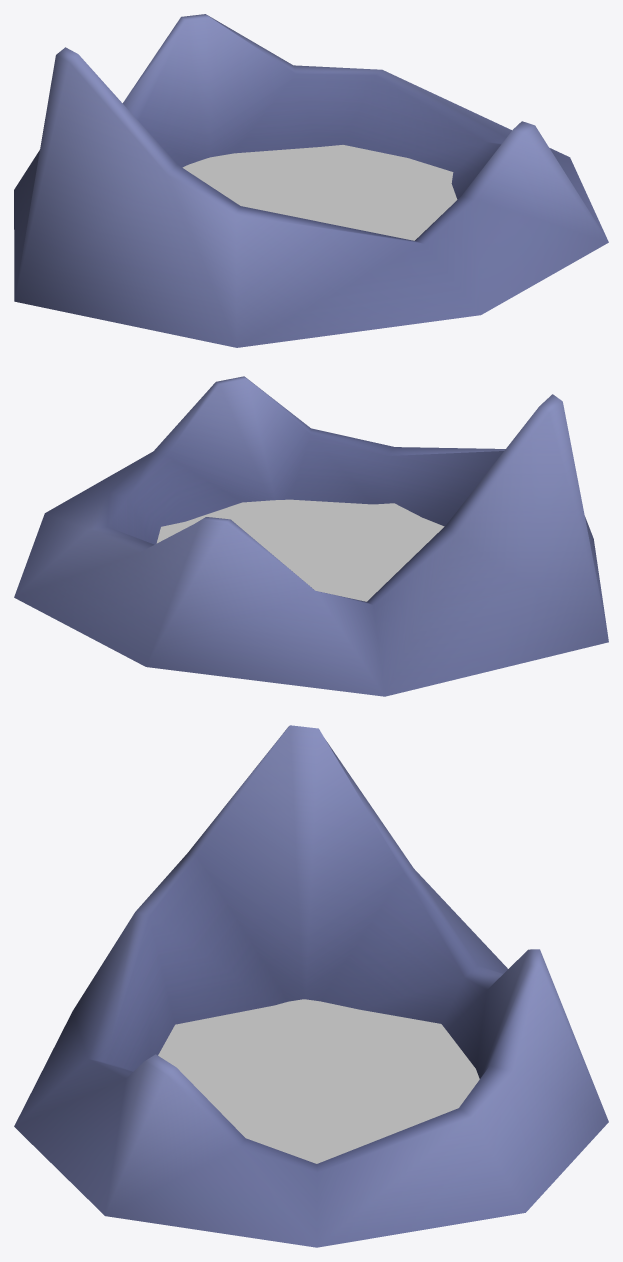
File: MSH_SharkGround_A.fbx
3 views of the same model, one above another, from view 1: azimuth 30°, elevation 25°; view 2: azimuth 150°, elevation 25°; view 3: azimuth 270°, elevation 25° (orthographic). The views are drawn at different scales.
Parts seen in each view (by area): view 1: MSH_SharkGround_A; view 2: MSH_SharkGround_A; view 3: MSH_SharkGround_A.
Boxes of the visible parts, x1,y1,x2,y2 form: MSH_SharkGround_A: (14,14,608,347); MSH_SharkGround_A: (14,376,608,696); MSH_SharkGround_A: (14,725,608,1247).
Bounding box in the file's own units: 461 × 190 × 388.
